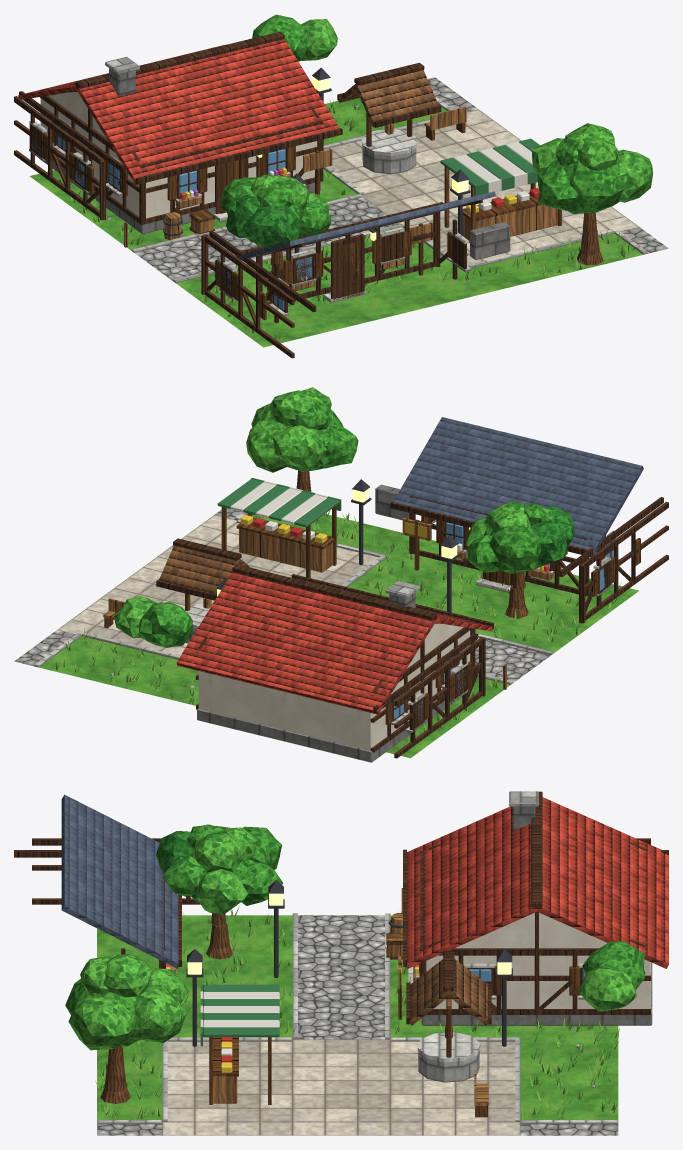
The model's file is chunk_1_2.glb.
3 renders of one model, top to bottom at view 1: azimuth 30°, elevation 25°; view 2: azimuth 150°, elevation 25°; view 3: azimuth 270°, elevation 25°, orthographic. The views are drawn at different scales.
Visible parts, largest first — view 1: chunk_1_2; view 2: chunk_1_2; view 3: chunk_1_2.
Part boxes in pixels (box(x1,y1,x2,y2)): chunk_1_2: box(14, 14, 668, 358); chunk_1_2: box(14, 387, 668, 762); chunk_1_2: box(14, 791, 668, 1135).
Bounding box in the file's own units: 16.1 × 4.98 × 20.1.
31 materials, 19 textured.
